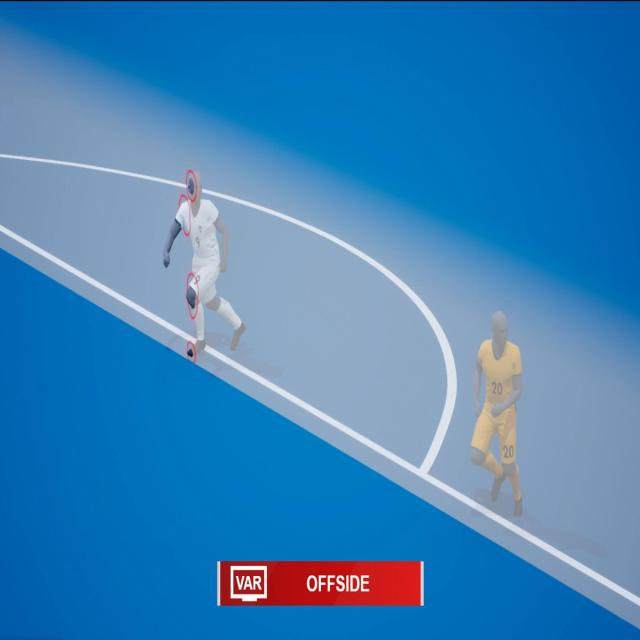offside: (47, 135, 550, 535)
